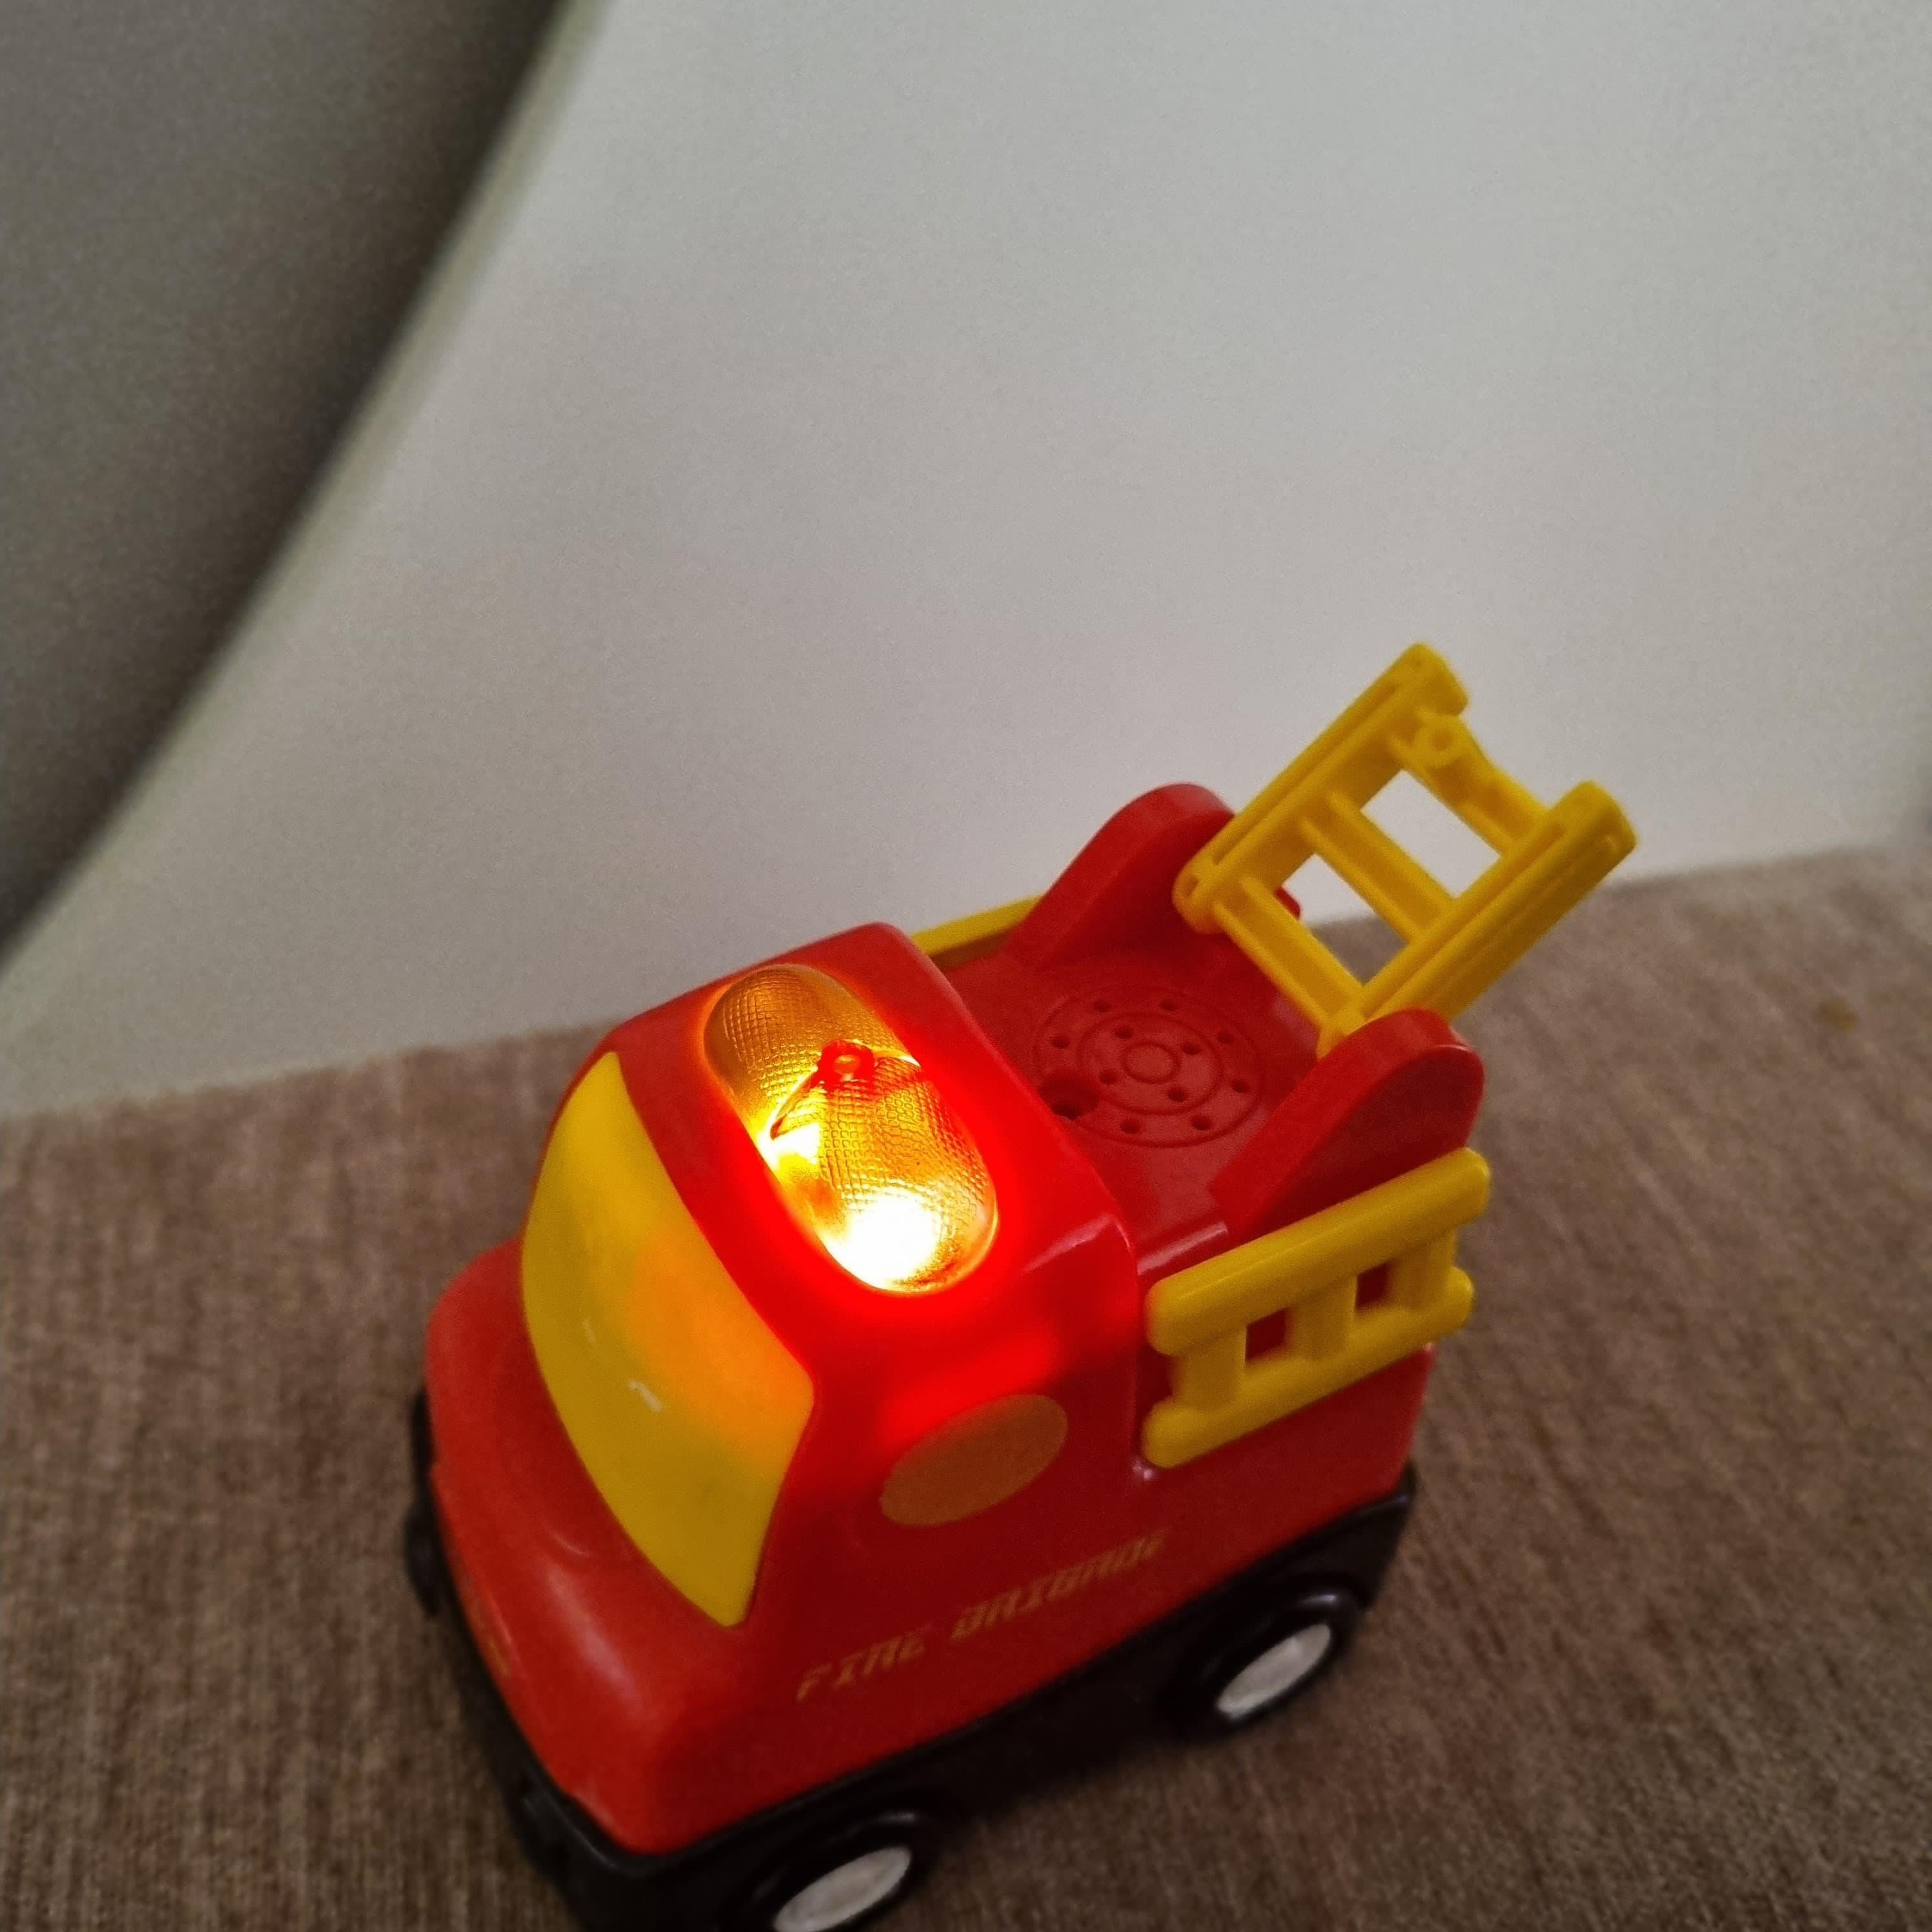firetruck_on: (402, 640, 1637, 1932)
